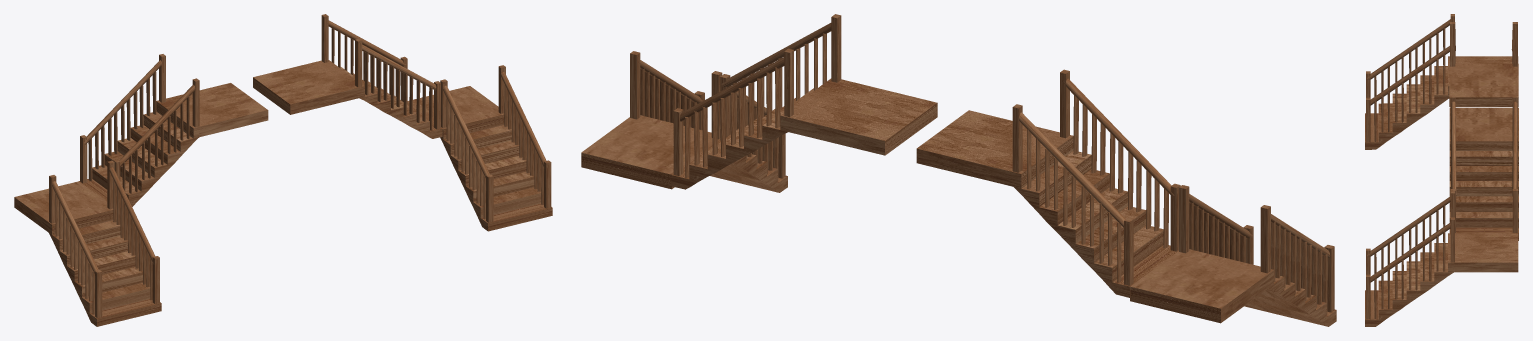
File: Stairs Left And Right.fbx
3 renders of one model, left to right at view 1: azimuth 30°, elevation 25°; view 2: azimuth 150°, elevation 25°; view 3: azimuth 270°, elevation 25°, orthographic. The views are drawn at different scales.
Parts seen in each view (by area): view 1: pasted__Stairs2 (×2), Stairs2, pasted__pasted__Stairs2, pasted__pCylinder1 (×2), pasted__pCube2 (×2), pasted__pasted__pCube3 (×2), pCylinder1, pasted__pasted__pCylinder1, pasted__pasted__pCube2, pasted__pCube3, pCube2, pasted__pasted__pasted__pCube3; view 2: pasted__Stairs2 (×2), pasted__pasted__Stairs2, Stairs2, pasted__pCylinder1 (×2), pasted__pCube2 (×2), pasted__pasted__pCylinder1, pCube2, pasted__pasted__pCube2, pasted__pasted__pCube3, pasted__pasted__pasted__pCube3, pCylinder1, pasted__pCube3 (+15 smaller); view 3: pasted__Stairs2 (×2), pasted__pasted__Stairs2, Stairs2, pasted__pCylinder1, pCylinder1, pasted__pasted__pCylinder1, pasted__pCube2 (×2), pasted__pCube3, pasted__pasted__pCube3, pasted__pasted__pasted__pCube3, pCylinder6, pasted__pCylinder6 (+21 smaller).
Boxes of the visible parts, x1,y1,x2,y2 form: pasted__Stairs2 (×2): (79,83,552,231); Stairs2: (14,181,161,326); pasted__pasted__Stairs2: (253,60,442,138); pasted__pCylinder1 (×2): (84,60,546,178); pasted__pCube2 (×2): (159,54,505,127); pasted__pasted__pCube3 (×2): (80,135,551,222); pCylinder1: (52,167,154,273); pasted__pasted__pCylinder1: (326,20,436,90); pasted__pasted__pCube2: (321,14,362,87); pasted__pCube3: (95,256,159,318); pCube2: (49,160,114,223); pasted__pasted__pasted__pCube3: (400,56,440,129); pasted__Stairs2 (×2): (581,110,1178,297); pasted__pasted__Stairs2: (671,78,937,189); Stairs2: (1130,249,1336,326); pasted__pCylinder1 (×2): (638,60,1174,227); pasted__pCube2 (×2): (630,51,1069,172); pasted__pasted__pCylinder1: (680,23,831,121); pCube2: (1179,185,1270,273); pasted__pasted__pCube2: (784,14,841,117); pasted__pasted__pCube3: (1124,183,1180,285); pasted__pasted__pasted__pCube3: (673,74,730,175); pCylinder1: (1187,194,1330,258); pasted__pCube3: (1243,225,1334,312); pasted__Stairs2 (×2): (1365,63,1518,326); pasted__pasted__Stairs2: (1449,107,1518,240); Stairs2: (1365,56,1518,149); pasted__pCylinder1: (1367,196,1450,282); pCylinder1: (1367,19,1450,105); pasted__pasted__pCylinder1: (1451,101,1517,195); pasted__pCube2 (×2): (1450,22,1517,262); pasted__pCube3: (1366,71,1370,141); pasted__pasted__pCube3: (1366,248,1370,318); pasted__pasted__pasted__pCube3: (1450,189,1517,232); pCylinder6: (1443,28,1445,94); pasted__pCylinder6: (1443,205,1445,271).
Bounding box in the file's own units: 32.27 × 11.95 × 10.16.
